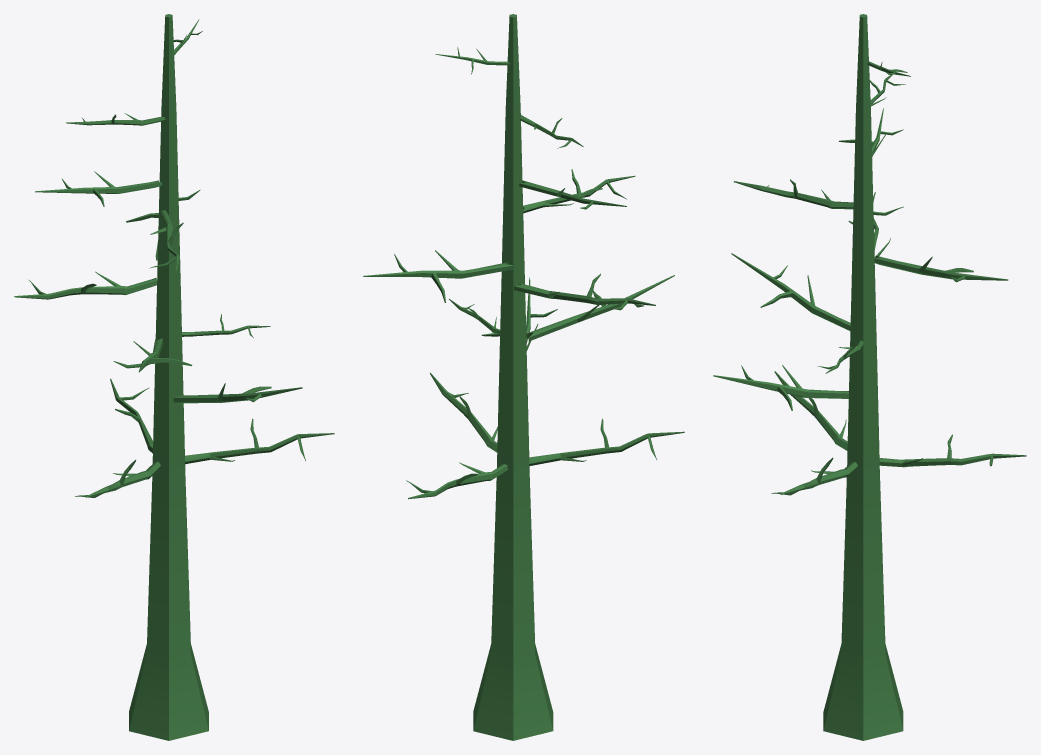
Rendered from pine tree naked.fbx.
The picture shows the model from 3 angles, left to right: view 1: azimuth 30°, elevation 25°; view 2: azimuth 150°, elevation 25°; view 3: azimuth 270°, elevation 25°; orthographic projection.
Visible parts, largest first — view 1: polySurface411; view 2: polySurface411; view 3: polySurface411.
Part boxes in pixels (box(x1,y1,x2,y2)): polySurface411: box(14, 14, 334, 740); polySurface411: box(363, 14, 684, 740); polySurface411: box(713, 14, 1026, 740).
Bounding box in the file's own units: 6.83 × 16.88 × 6.8.
